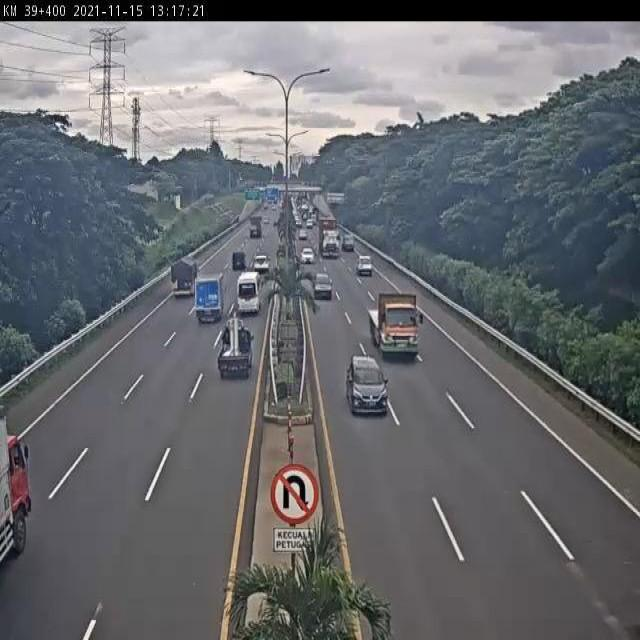bus-s-: (234, 269, 265, 315)
car: (345, 351, 391, 420), (312, 270, 335, 306), (352, 249, 374, 280), (249, 252, 272, 276), (230, 247, 248, 270)
truck-m-: (368, 294, 424, 362), (193, 269, 230, 328), (169, 256, 200, 301)
truck-s-: (215, 316, 256, 383)
